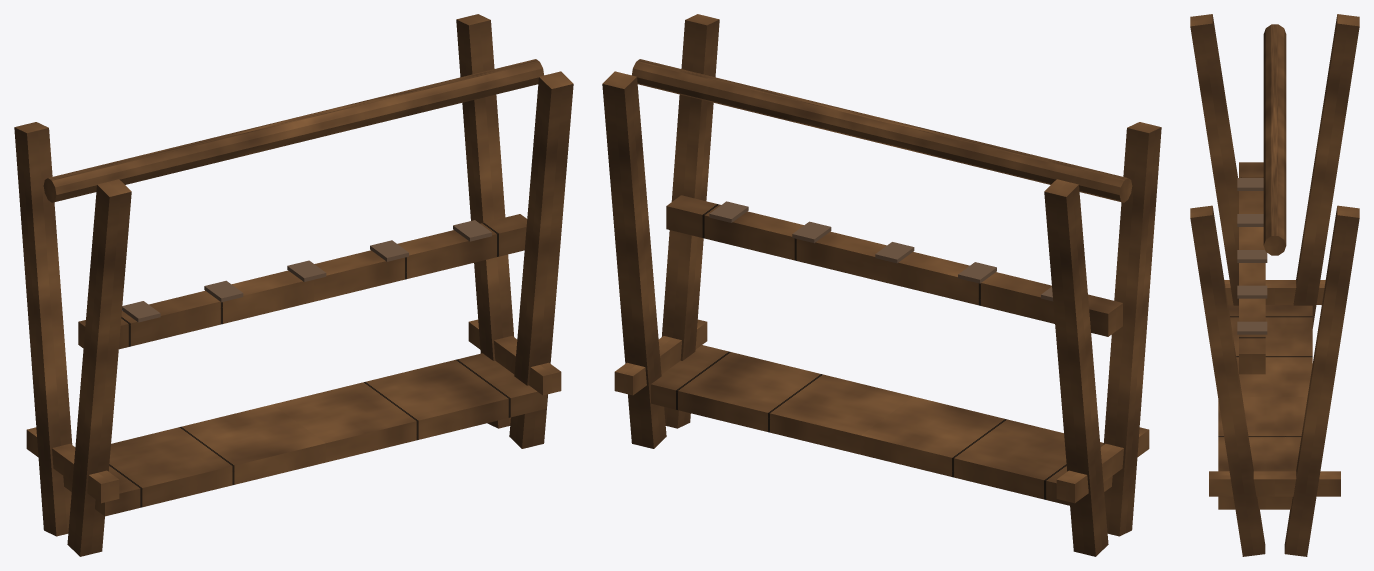
The model's file is WeaponRack.gltf.
3 views of the same model, side by side, from view 1: azimuth 30°, elevation 25°; view 2: azimuth 150°, elevation 25°; view 3: azimuth 270°, elevation 25° (orthographic). The views are drawn at different scales.
Visible parts, largest first — view 1: WeaponRack; view 2: WeaponRack; view 3: WeaponRack.
Part boxes in pixels (x1=…): WeaponRack: x1=14, y1=14, x2=573, y2=556; WeaponRack: x1=602, y1=14, x2=1161, y2=556; WeaponRack: x1=1190, y1=14, x2=1359, y2=556.
Bounding box in the file's own units: 2.65 × 2 × 0.8972.
Materials: 2 (1 with a texture image).
